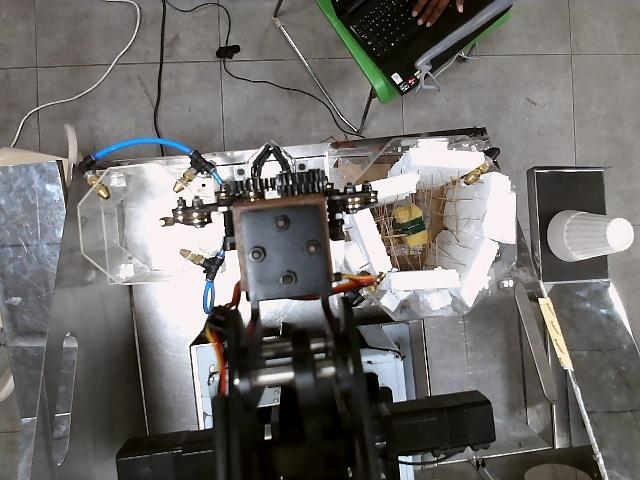cup: (546, 209, 634, 262)
